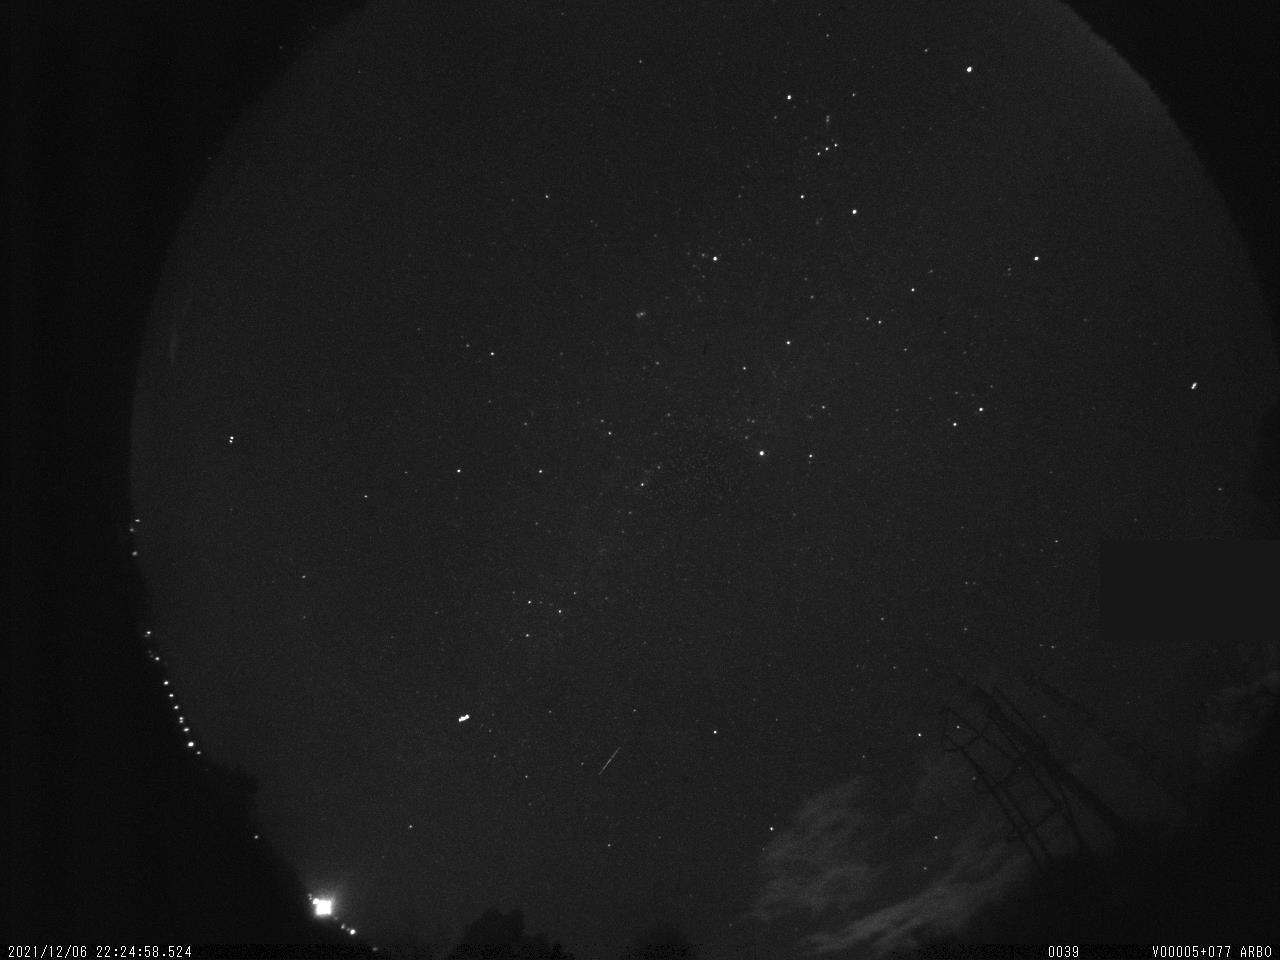Meteor: (595, 737, 633, 785)
